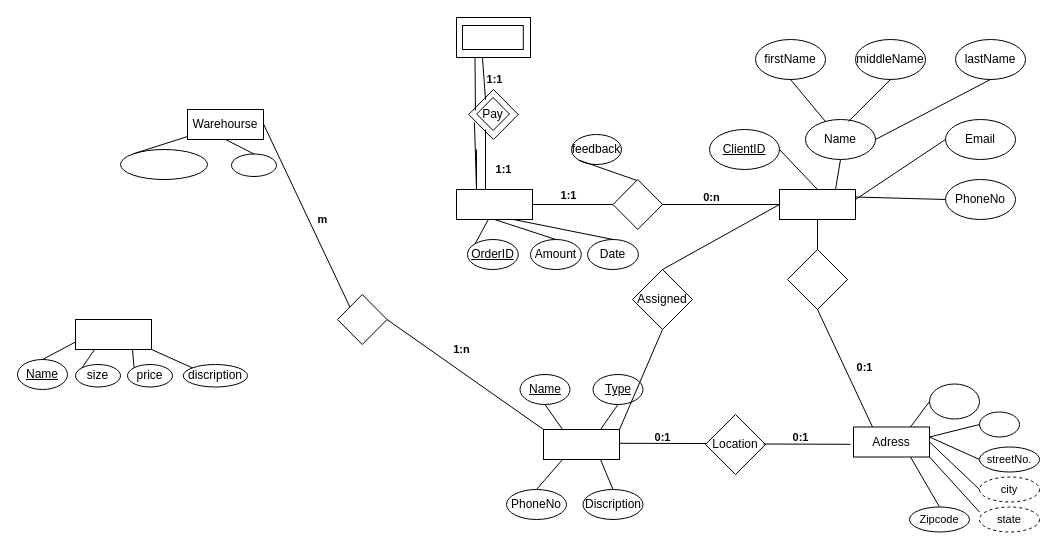
Image size: 1057x550. Some labels were removed from this diagram. The centre of each missing label's shape, as x and y in pixels:
addrID: (954,401)
capacity: (253,164)
Client: (817,204)
Factory: (581,444)
has: (817,279)
Orders: (494,204)
Payment: (492,37)
Place: (637,204)
Product: (113,334)
Service: (361,319)
street: (999,424)
WarehouseID: (164,164)
